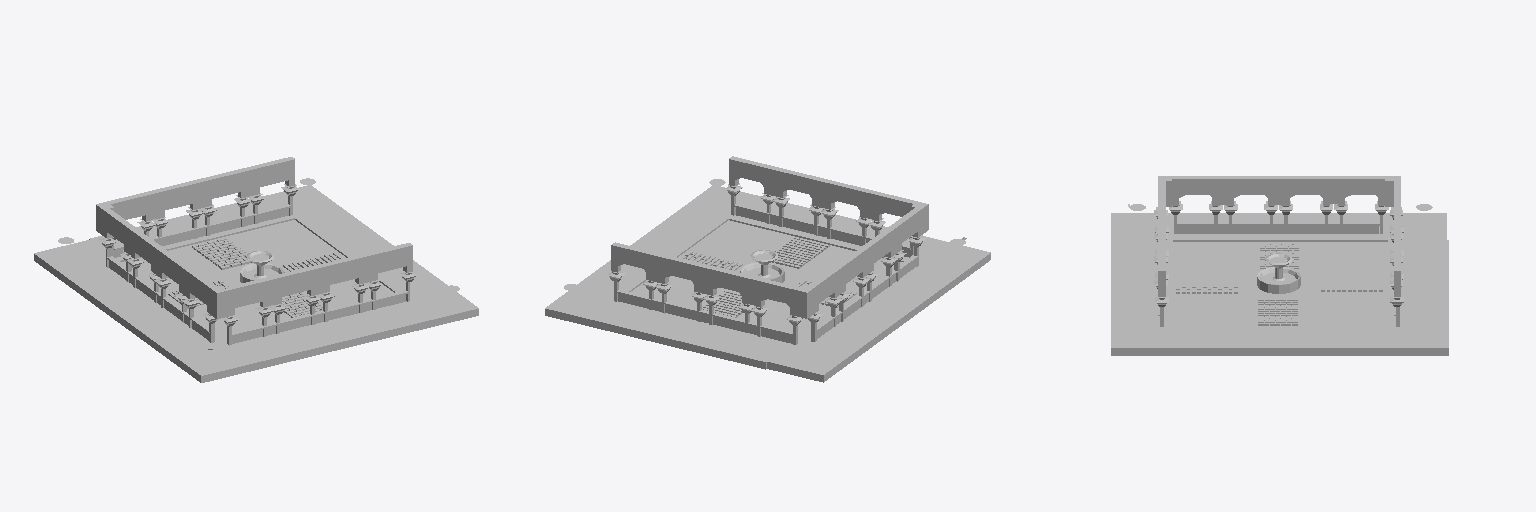
Rendered from garden.obj.
3 views of the same model, side by side, from view 1: azimuth 30°, elevation 25°; view 2: azimuth 150°, elevation 25°; view 3: azimuth 270°, elevation 25° (orthographic).
Parts seen in each view (by area): view 1: model; view 2: model; view 3: model.
Part boxes in pixels (x1,y1,x2,y2): model: (34, 157, 478, 382); model: (545, 156, 990, 382); model: (1111, 176, 1448, 355).
Bounding box in the file's own units: 4.79 × 1.05 × 5.04.